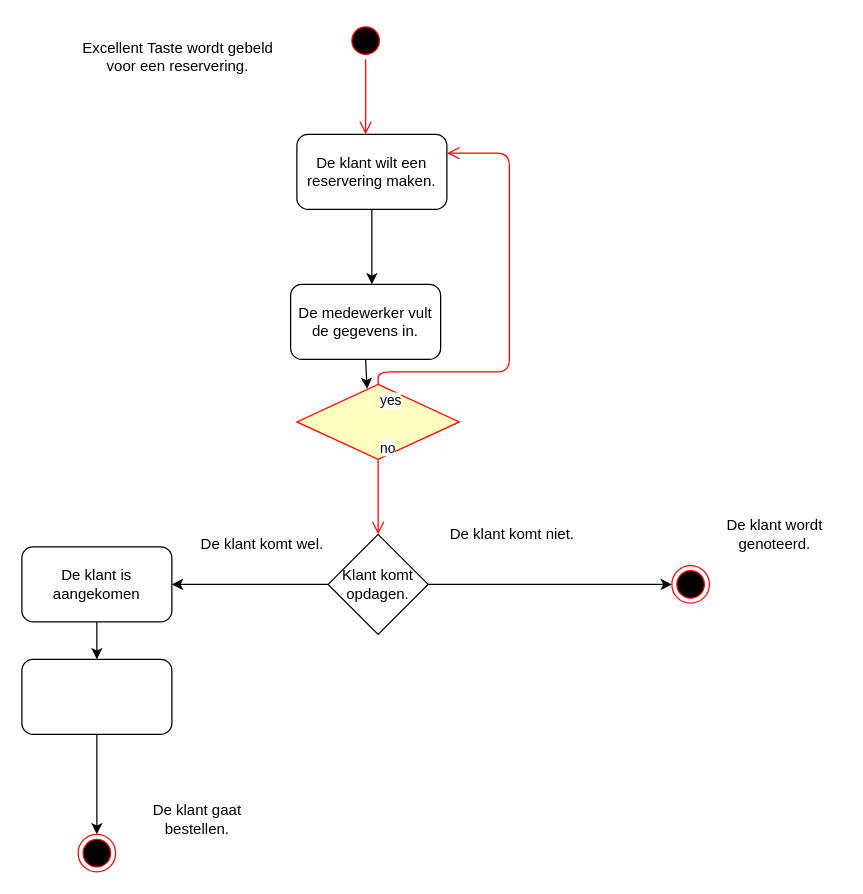
Some shapes in this 863 by 894 pixel diagram are drawn without their labels. Each missing label, with the centre of its shape:
"De klant gaat zitten aan de gereserveerde tafel." goes at (96,696).
"Klant bedenkt zich." goes at (377,421).
